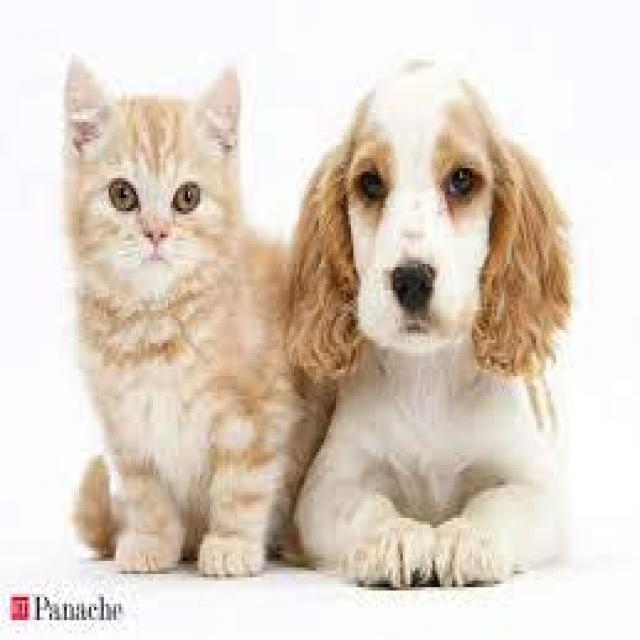cat: (44, 38, 318, 580)
dog: (290, 50, 580, 600)
